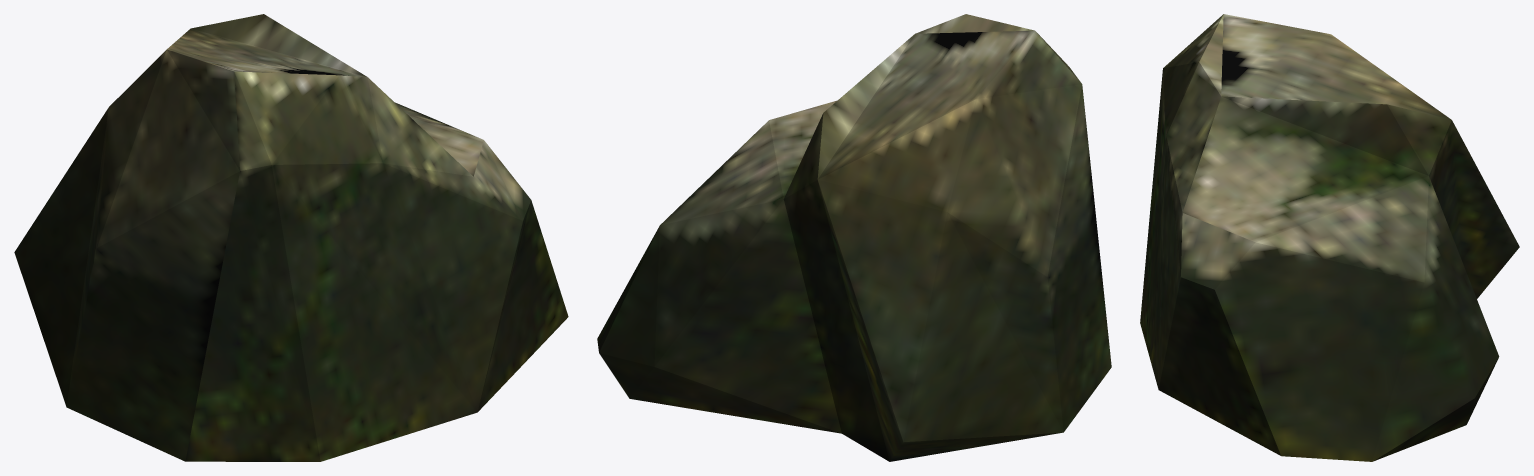
File: lianqizong_shitou20_st.FBX
3 views of the same model, side by side, from view 1: azimuth 30°, elevation 25°; view 2: azimuth 150°, elevation 25°; view 3: azimuth 270°, elevation 25° (orthographic). The views are drawn at different scales.
Visible parts, largest first — view 1: lianqizong_shitou20_st_A; view 2: lianqizong_shitou20_st_A; view 3: lianqizong_shitou20_st_A.
Part boxes in pixels (x1,y1,x2,y2): lianqizong_shitou20_st_A: [14, 14, 568, 461]; lianqizong_shitou20_st_A: [597, 14, 1111, 461]; lianqizong_shitou20_st_A: [1140, 14, 1519, 461].
Size of the model in its own units: 39.32 by 28.11 by 32.77.
